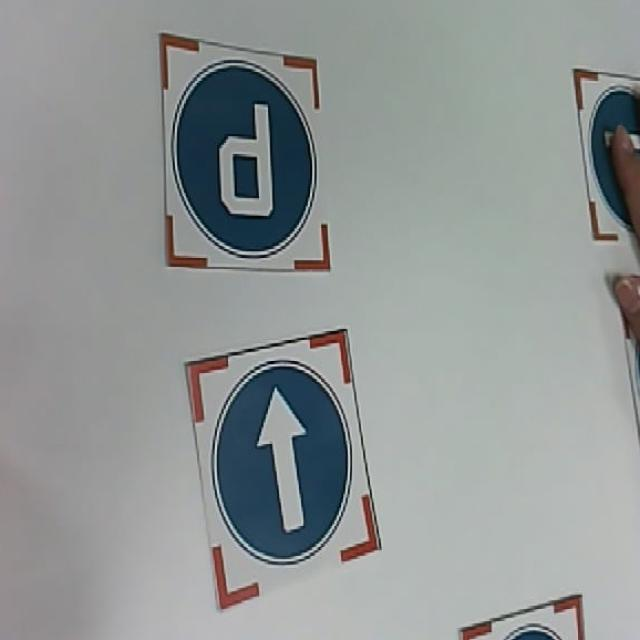parking: (148, 14, 343, 281)
straight: (187, 332, 405, 608)
